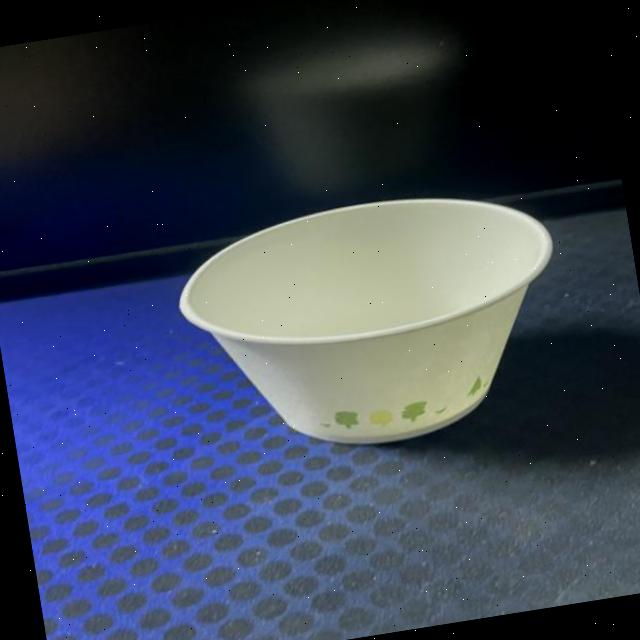trash: (162, 170, 586, 475)
